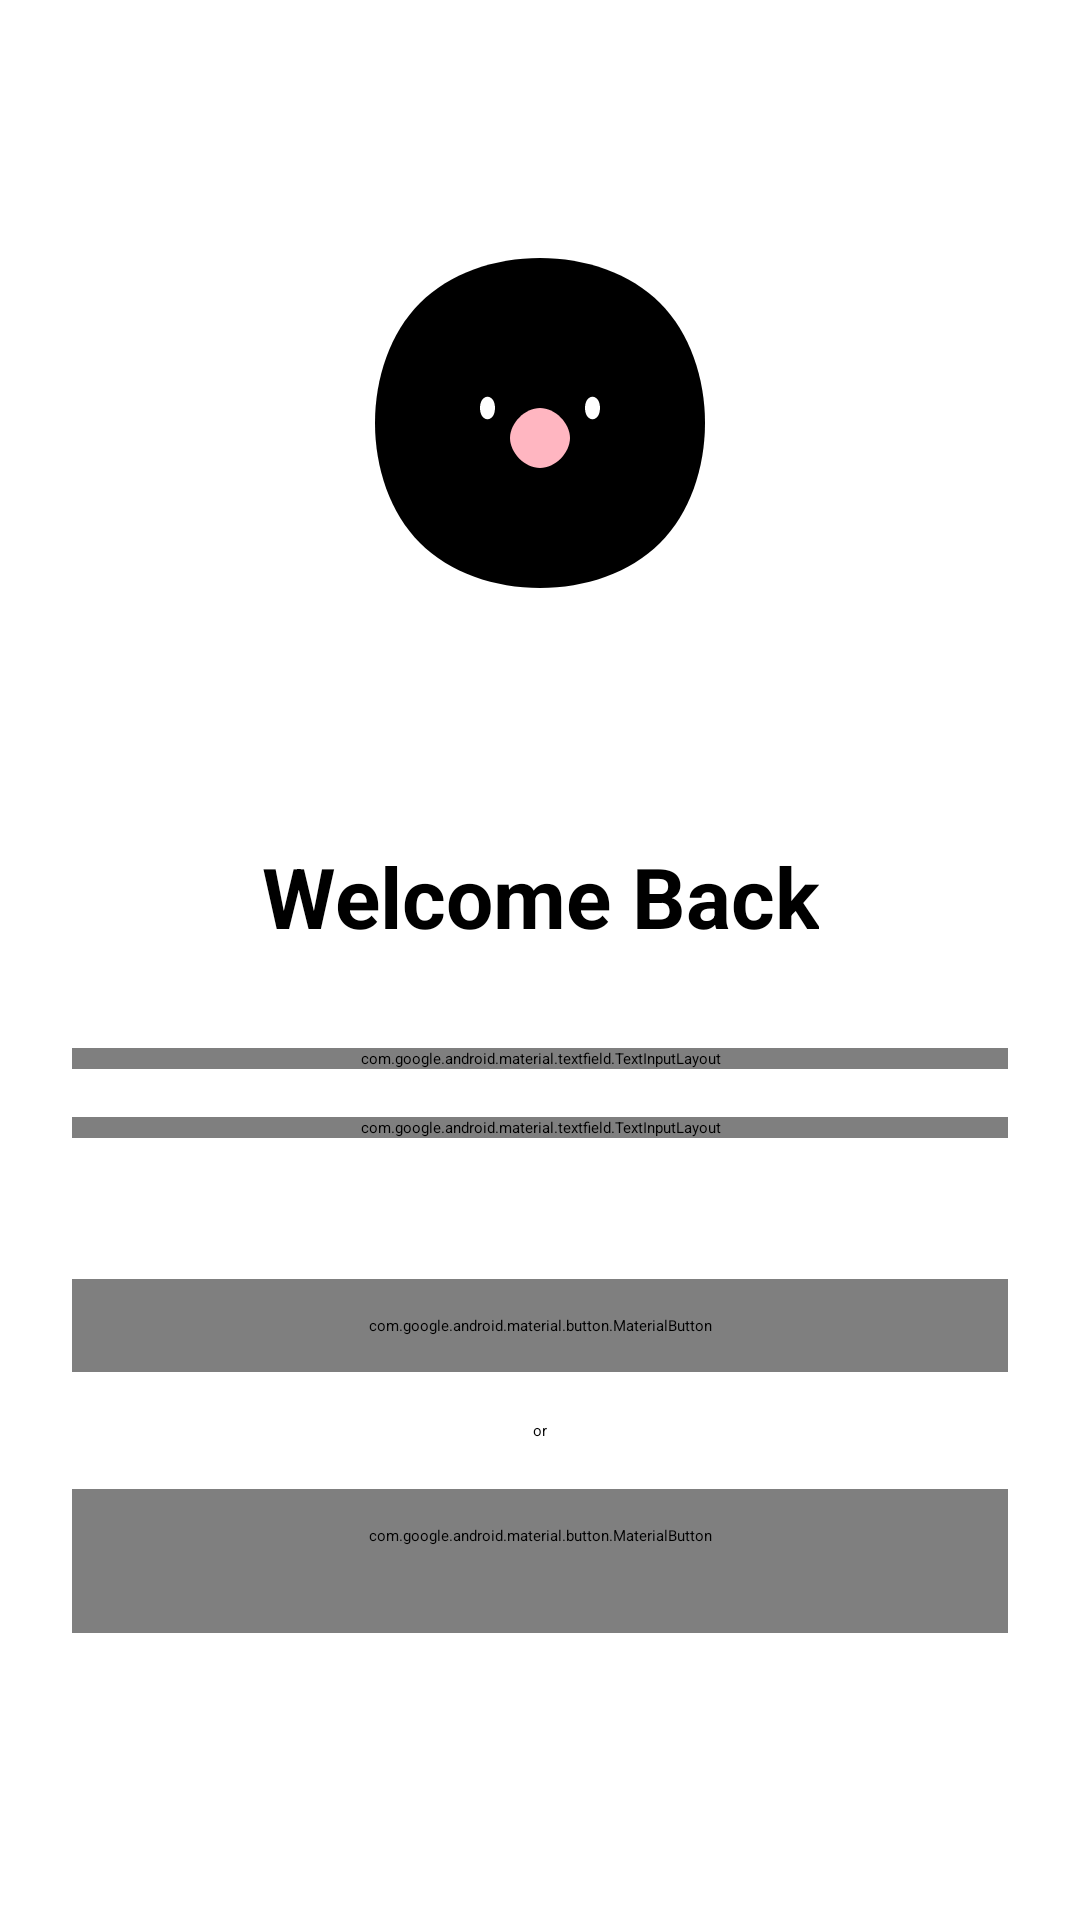

Where icons sit on this 1080×1920 app screen, as (x1,y1,x2,y2):
cat peek: (375,258,705,588)
